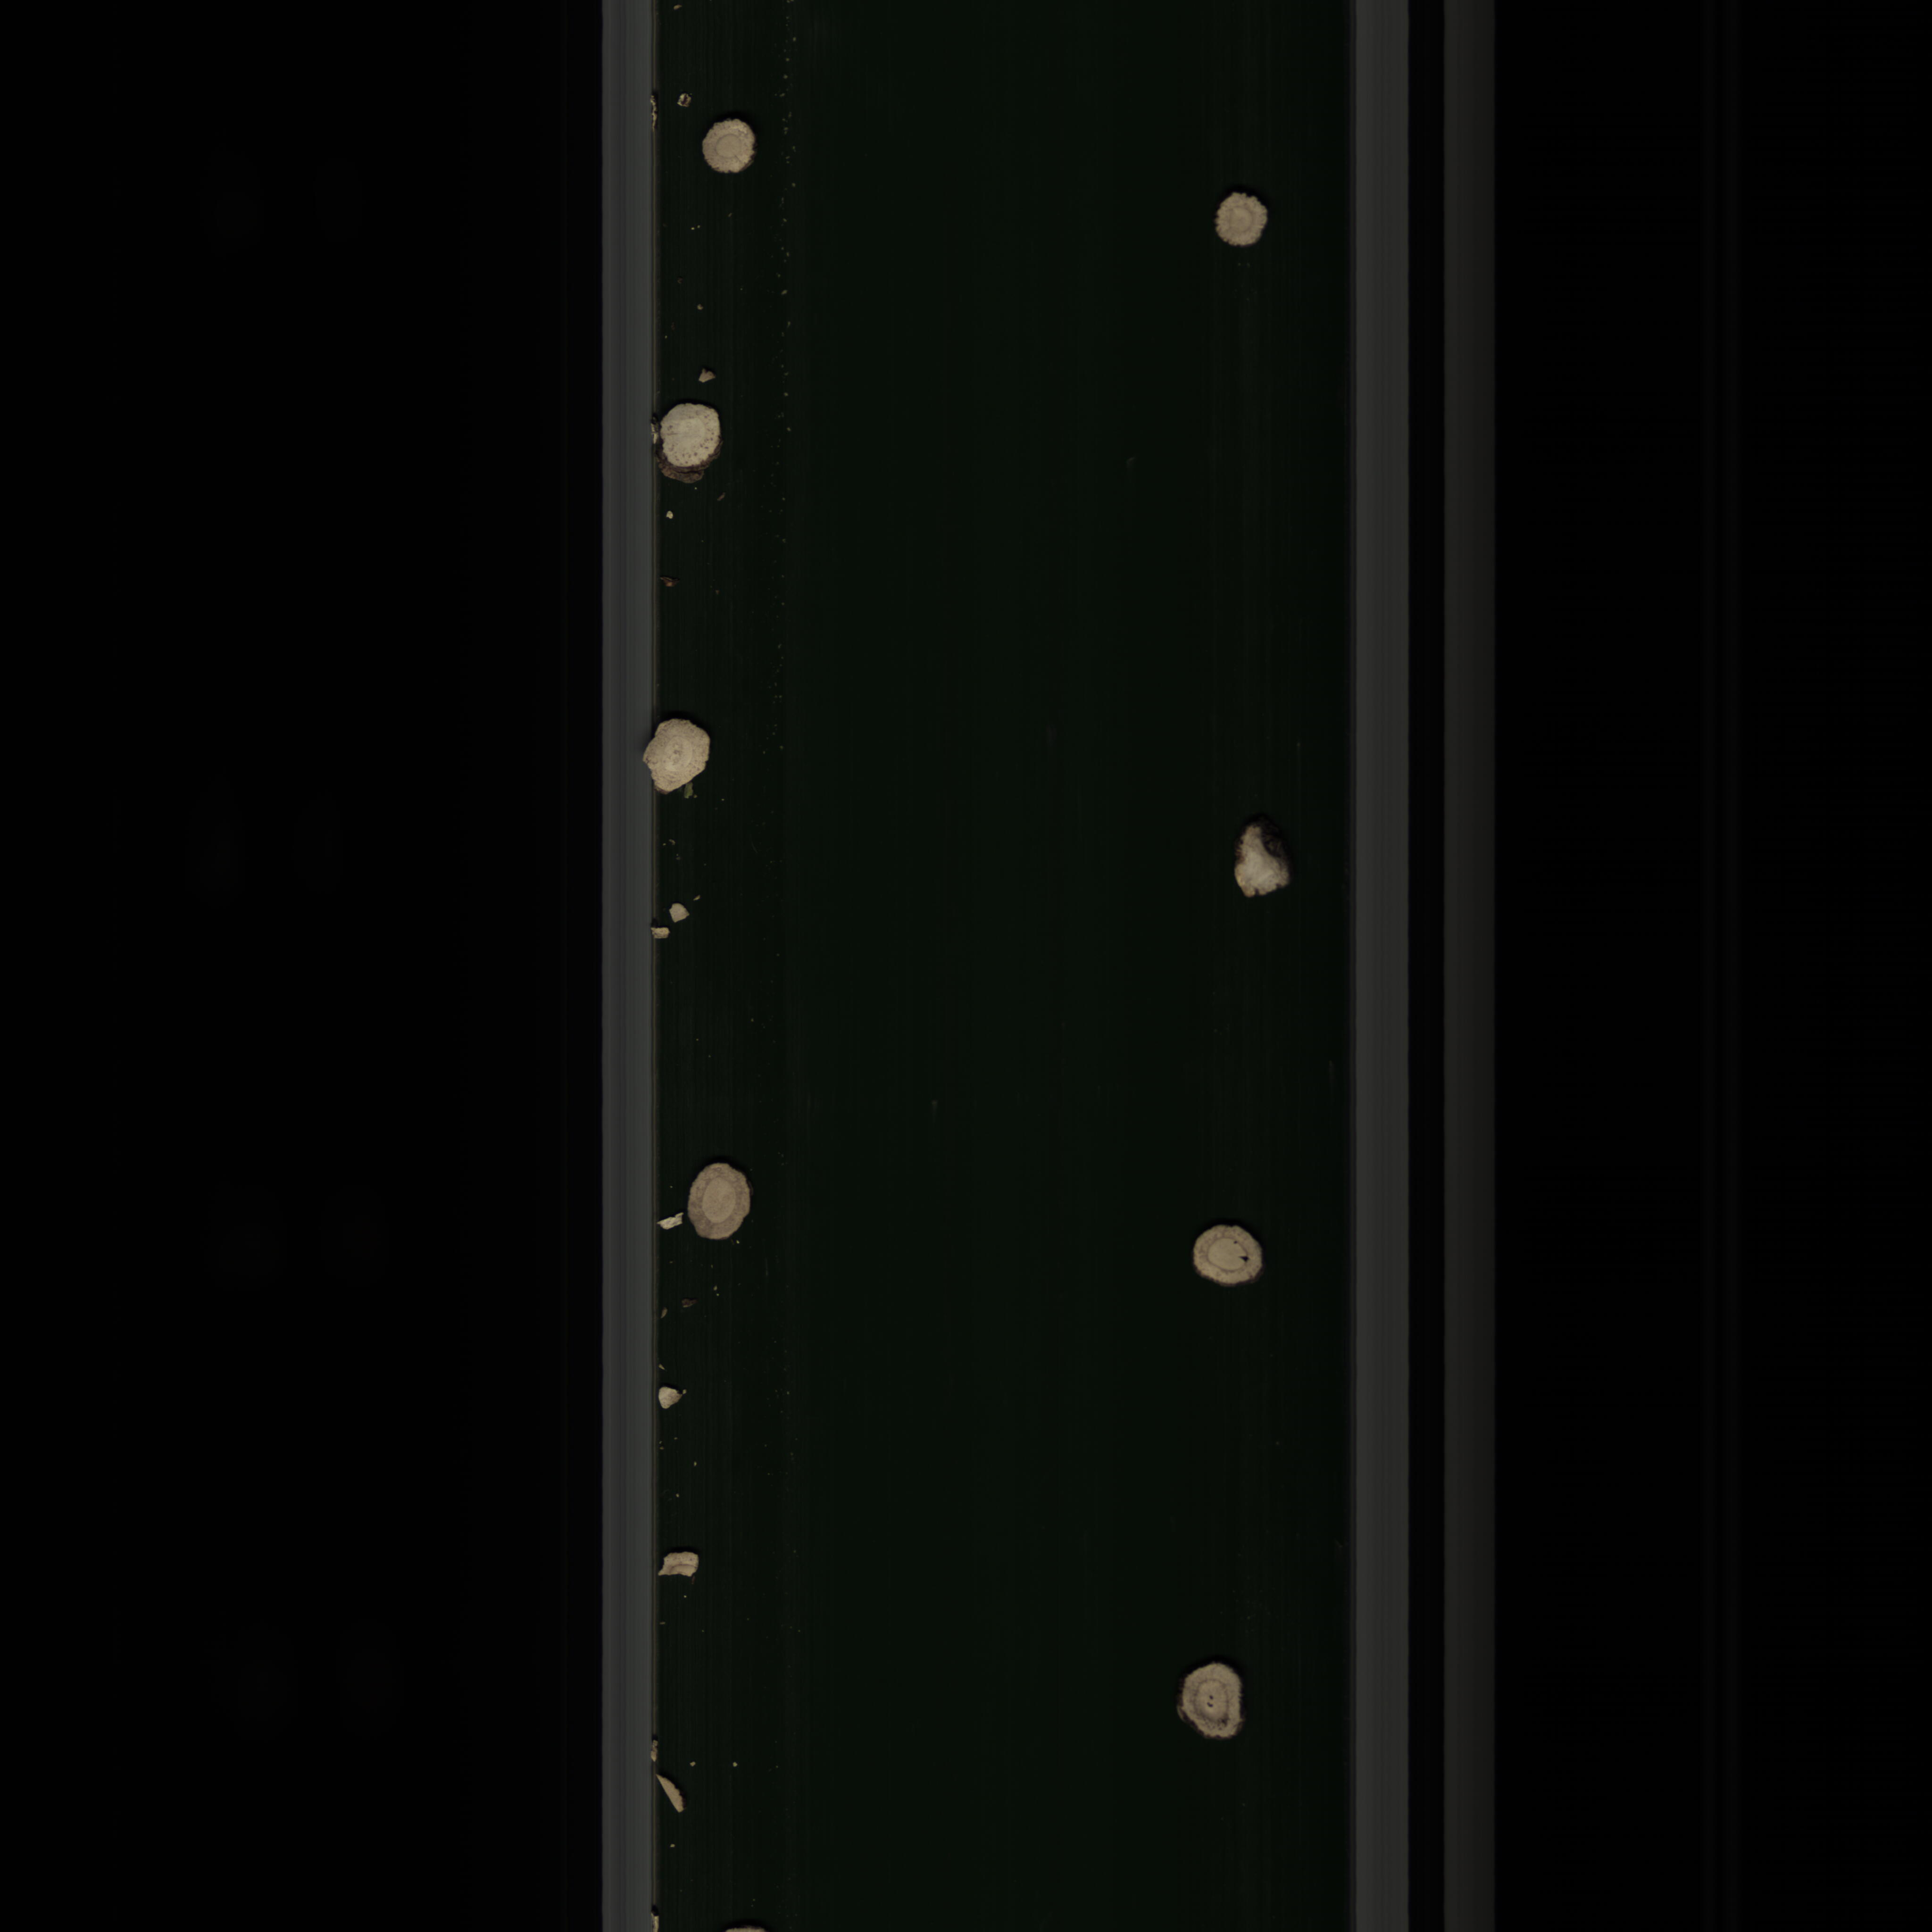debris: (656, 1767, 694, 1824), (658, 1543, 706, 1583)
distortion: (637, 715, 725, 801), (1226, 814, 1297, 906)
hole: (1185, 1221, 1284, 1292)
